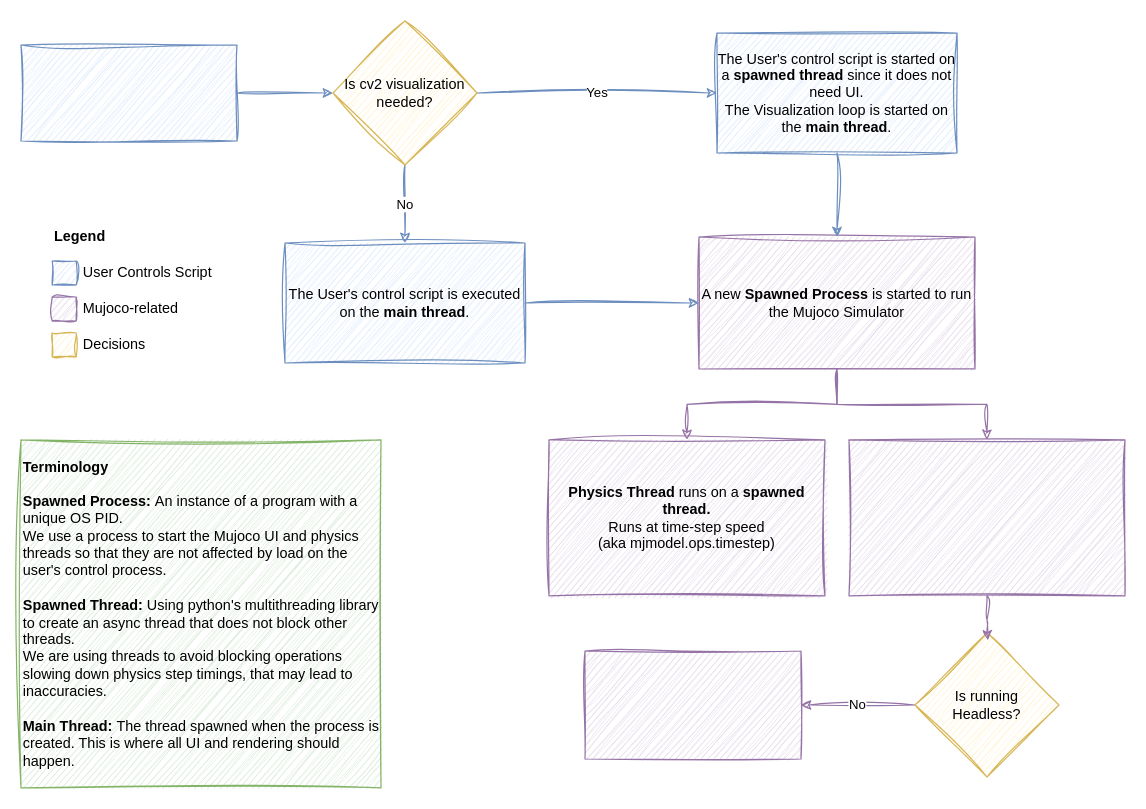
Image size: 1146x809. Some labels were removed from this diagram. Each missing label, with the centre of its shape:
"Cameras are rendered at specified camera rate on the main thread." goes at (x=986, y=517).
"Mujoco Passive UI runs on the main thread capped at camera refresh rate ." goes at (x=692, y=704).
"The User executes their controls script. e.g. `uv run draw_circles.py`" goes at (x=128, y=92).
